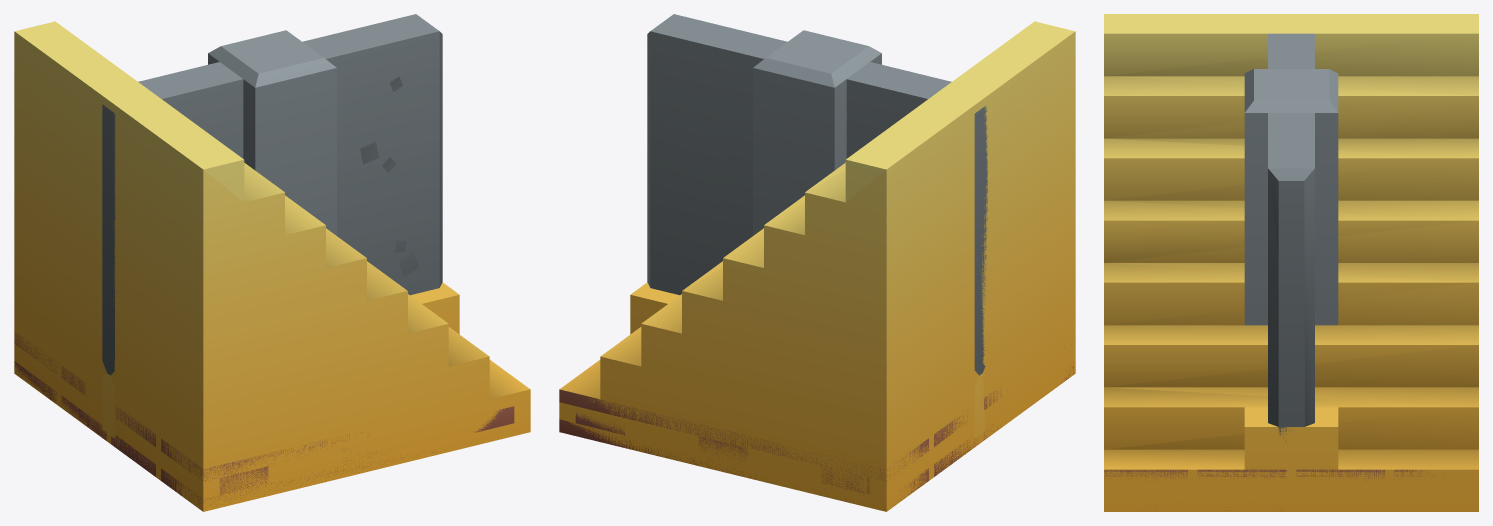
Rendered from props.glb.
3 renders of one model, left to right at view 1: azimuth 30°, elevation 25°; view 2: azimuth 150°, elevation 25°; view 3: azimuth 270°, elevation 25°, orthographic.
Visible parts, largest first — view 1: Primitive_Stairs, Wall_Half, Wall_Window_Open, Pillar_B, Pallet_Large, Primitive_Beam, Pillar_A; view 2: Primitive_Stairs, Wall_Window_Open, Wall_Half, Pillar_B, Pallet_Large, Primitive_Beam, Pillar_A; view 3: Primitive_Stairs, Pillar_B, Wall_Half, Wall_Window_Open, Primitive_Beam, Pallet_Large, Pillar_A.
Part boxes in pixels (x1,y1,x2,y2): Primitive_Stairs: [14, 21, 530, 511]; Wall_Half: [302, 14, 441, 295]; Wall_Window_Open: [102, 14, 442, 438]; Pillar_B: [208, 30, 336, 235]; Pallet_Large: [14, 331, 514, 508]; Primitive_Beam: [85, 282, 459, 443]; Pillar_A: [247, 41, 297, 62]; Primitive_Stairs: [559, 21, 1075, 511]; Wall_Window_Open: [647, 15, 987, 438]; Wall_Half: [647, 14, 786, 294]; Pillar_B: [753, 30, 881, 235]; Pallet_Large: [559, 344, 1075, 501]; Primitive_Beam: [630, 282, 972, 457]; Pillar_A: [793, 41, 842, 62]; Primitive_Stairs: [1104, 14, 1478, 511]; Pillar_B: [1244, 69, 1338, 325]; Wall_Half: [1268, 113, 1314, 464]; Wall_Window_Open: [1268, 33, 1314, 434]; Primitive_Beam: [1244, 407, 1338, 511]; Pallet_Large: [1104, 469, 1444, 507]; Pillar_A: [1272, 76, 1310, 92].
Size of the model in its own units: 4 by 4.6 by 4.
14 materials, 14 textured.
